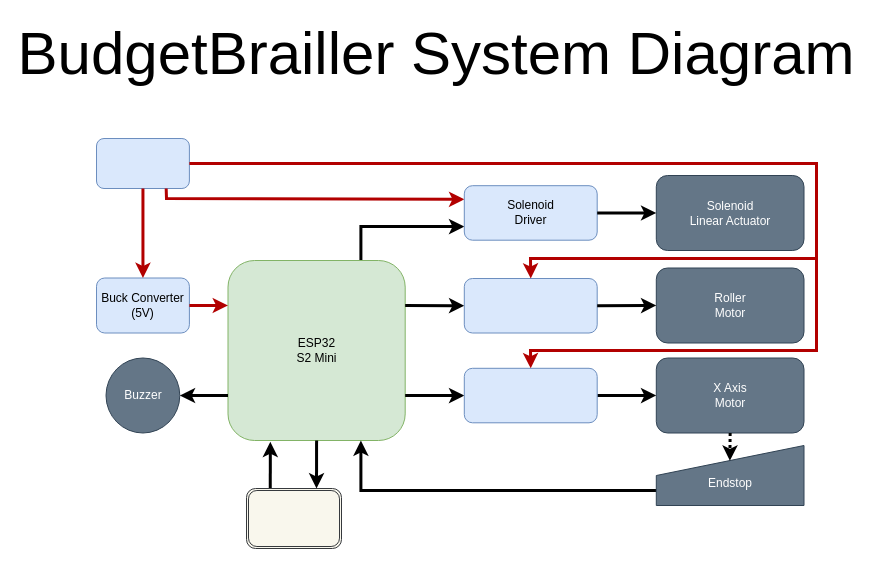
This 874x566 diagram has some shape labels left out. The box of each missing label's shape, as (x1, y1, x2, y2) in pixels:
Keyboard: (246, 488, 342, 548)
Power Supply (12V 5A): (96, 138, 189, 188)
Roller Motor Driver: (463, 278, 597, 333)
X-Axis Motor Driver: (463, 367, 597, 423)
